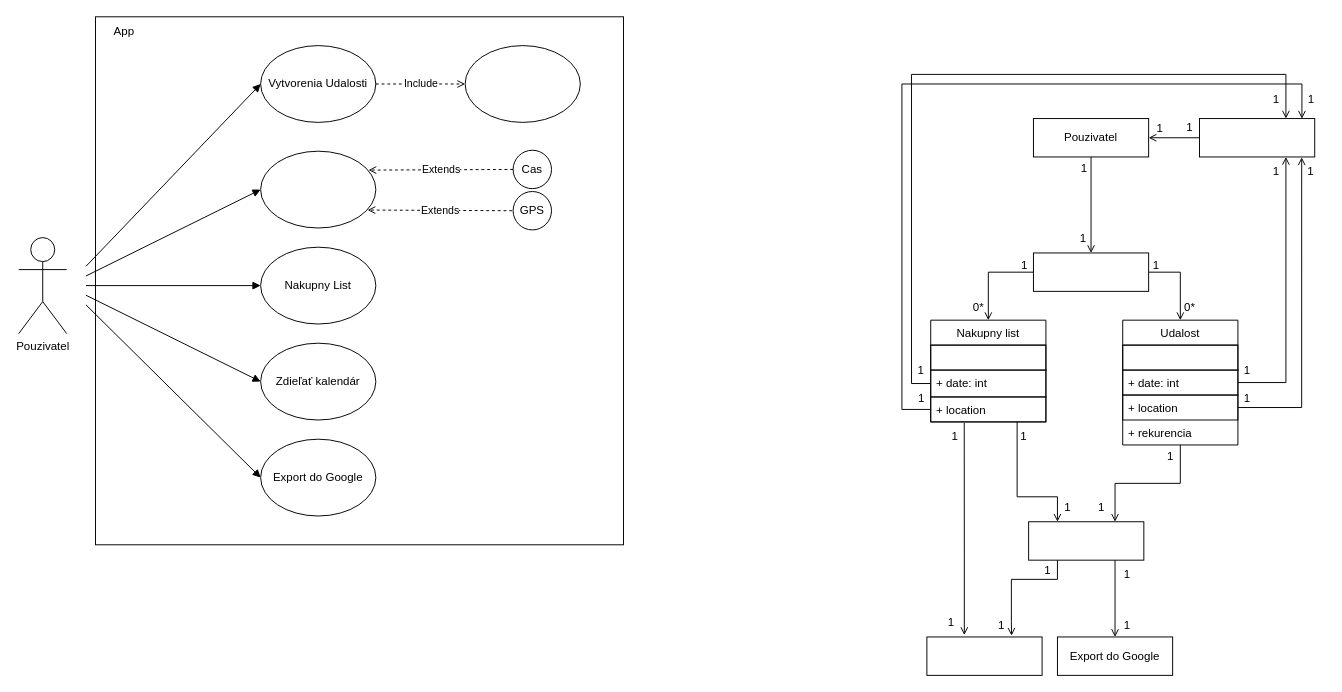
Image size: 1342x692. Some labels were removed from this diagram. Each missing label, with the box of its shape:
+ list: String: (930, 344, 1046, 370)
+ name: String: (1122, 344, 1238, 370)
Applikacia: (1032, 252, 1149, 291)
Kalendar: (1028, 521, 1144, 560)
Pripominania: (260, 150, 376, 228)
Pripominanie: (1199, 118, 1315, 157)
Typ udalosti: (464, 45, 580, 122)
Zdielanie: (926, 636, 1042, 675)
